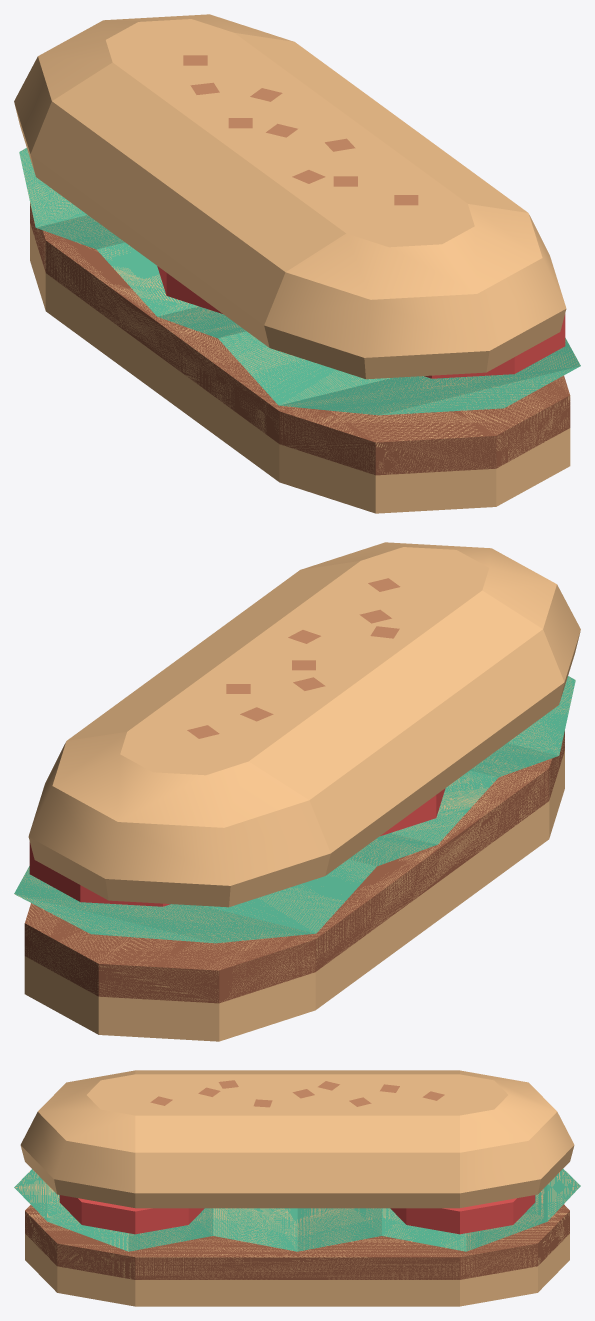
3 views of the same model, one above another, from view 1: azimuth 30°, elevation 25°; view 2: azimuth 150°, elevation 25°; view 3: azimuth 270°, elevation 25° (orthographic). The views are drawn at different scales.
Visible parts, largest first — view 1: sub, meat, lettuce, tomaties, Group; view 2: sub, meat, lettuce, tomaties, Group; view 3: sub, meat, lettuce, tomaties (×2).
Part boxes in pixels (left/top/right/bottom): sub: left=14, top=14, right=570, bottom=513; meat: left=30, top=203, right=570, bottom=475; lettuce: left=19, top=148, right=580, bottom=415; tomaties: left=424, top=314, right=565, bottom=378; Group: left=157, top=266, right=222, bottom=313; sub: left=24, top=542, right=580, bottom=1041; meat: left=24, top=731, right=564, bottom=1003; lettuce: left=14, top=676, right=575, bottom=943; tomaties: left=29, top=842, right=170, bottom=906; Group: left=380, top=788, right=445, bottom=836; sub: left=20, top=1070, right=574, bottom=1306; meat: left=25, top=1204, right=569, bottom=1279; lettuce: left=14, top=1169, right=580, bottom=1251; tomaties (×2): left=59, top=1195, right=535, bottom=1234.
Size of the model in its own units: 0.2827 by 0.2125 by 0.6756.
